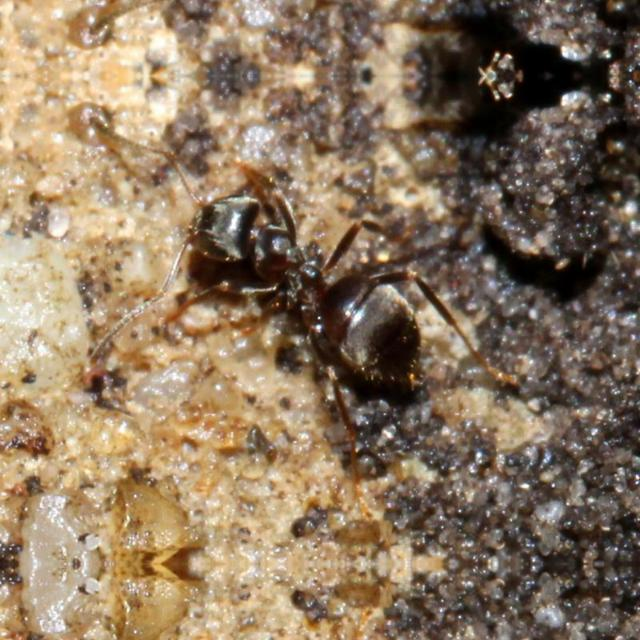Lasius: (158, 148, 482, 426)
